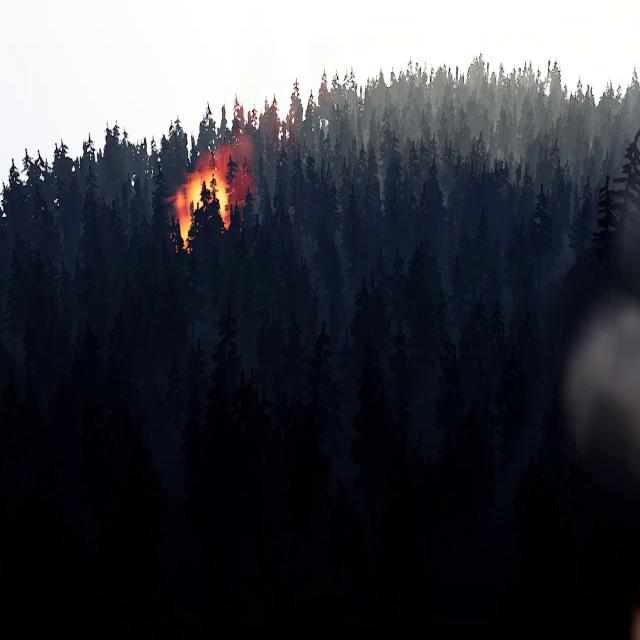fire: (176, 136, 248, 245)
smoke: (560, 296, 640, 482)
